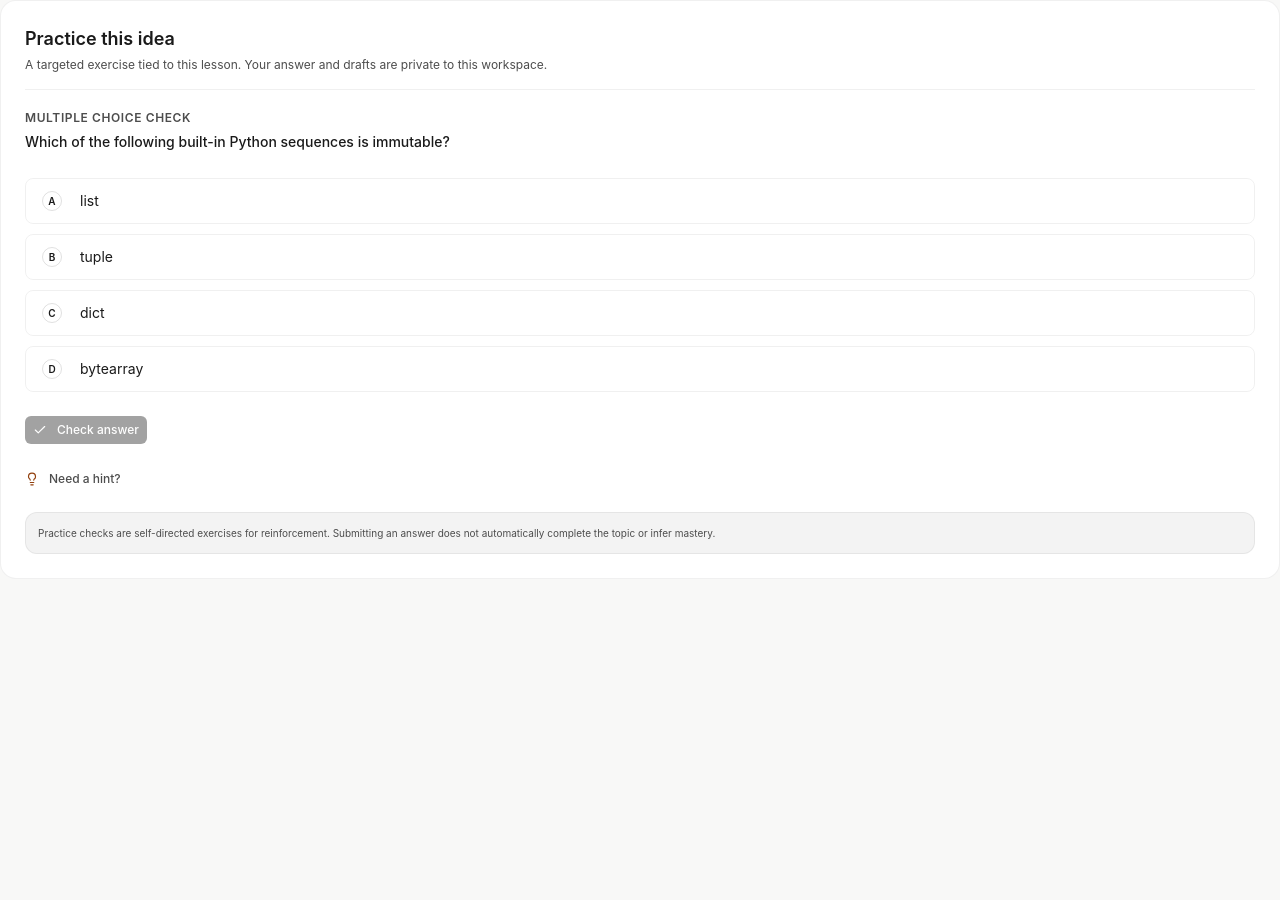
Test: StudioPracticeActivity › handles choice selection and submits practice attempt successfully
Expected: the text "tuple" is shown, [80,248,113,265]
Expected: the button "Check answer" is disabled, [25,416,147,444]
Note: Select "tuple"
Step 1. Click the radio button labelled "B tuple" → (96, 256), box [25,234,1255,280]
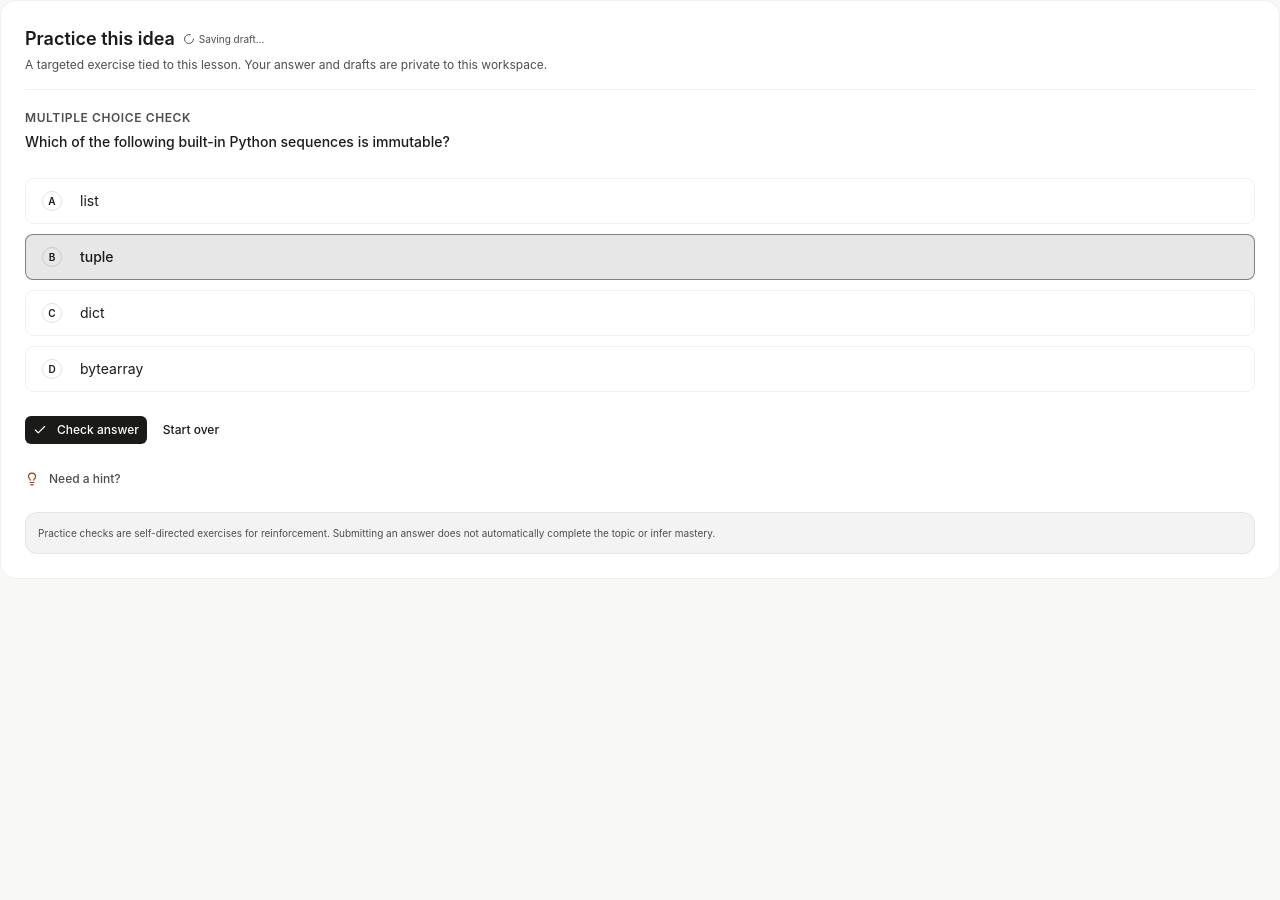
Now the button "Check answer" is enabled
Note: Submit attempt
Step 2. Click the button "Check answer" → (86, 430), box [25,416,147,444]
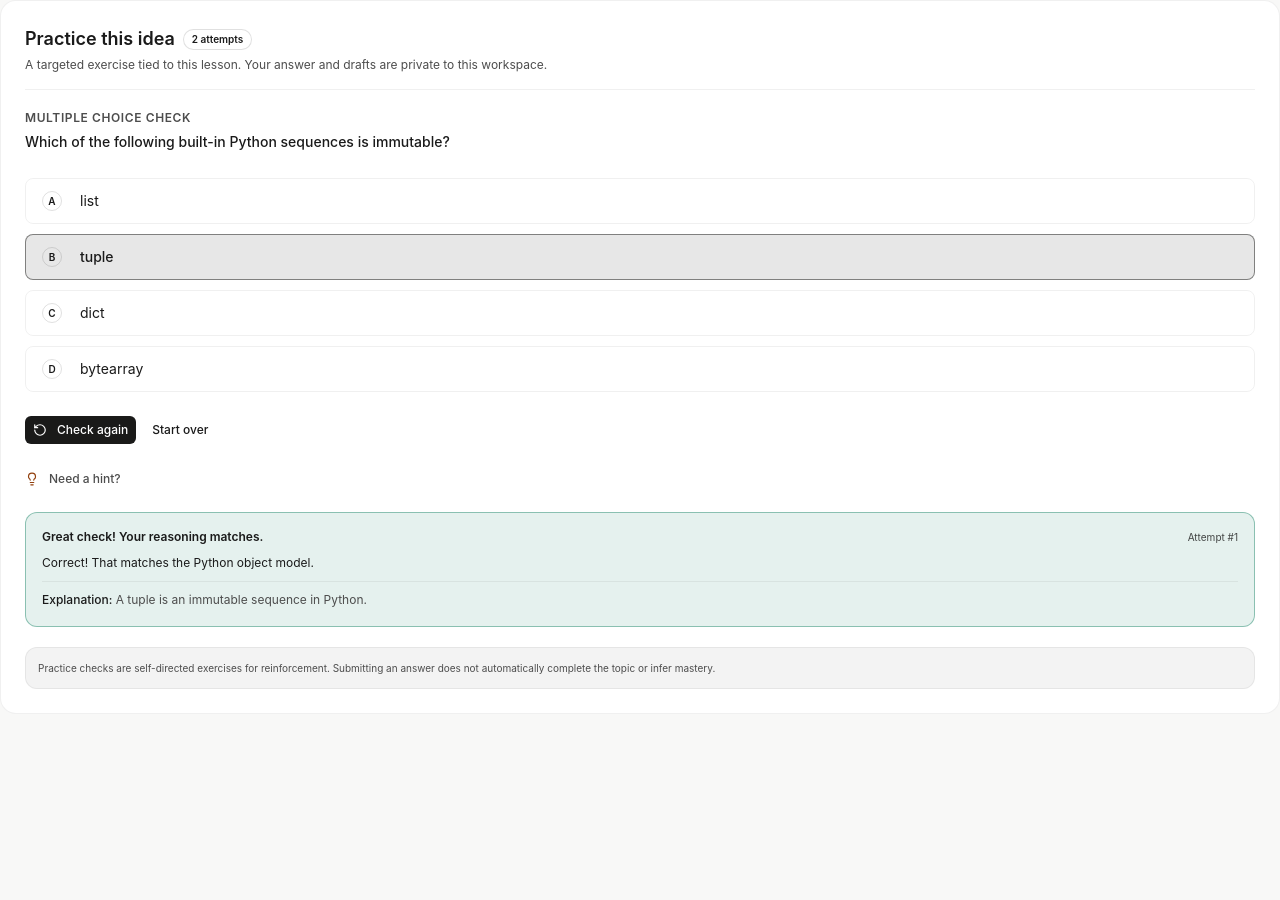
Now the message shows "Great check! Your reasoning matches.", box [42,529,263,544]
Now the message shows "Correct! That matches the Python object model.", box [42,555,314,570]
Now the message shows "Attempt #1", box [25,512,1255,627]
